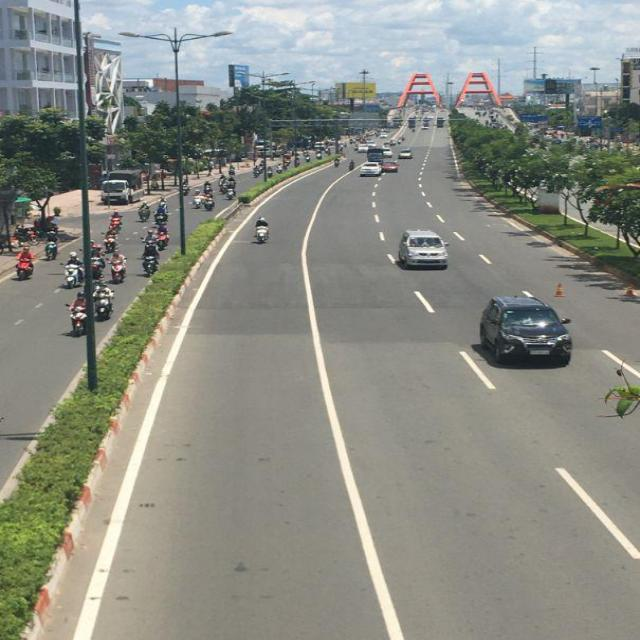car: (479, 292, 573, 366), (396, 230, 447, 270), (360, 162, 382, 178), (379, 162, 398, 174), (397, 150, 414, 160)
motorcycle: (256, 218, 271, 243), (156, 202, 168, 224)
truck: (102, 170, 146, 207), (368, 149, 385, 163), (635, 432, 637, 433)
